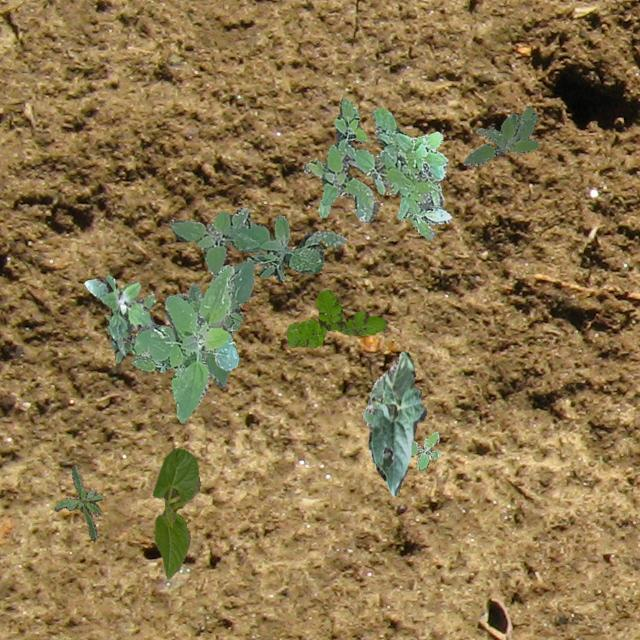crop: (360, 350, 426, 494), (152, 446, 200, 578)
weed: (168, 207, 346, 386), (302, 98, 451, 238), (128, 264, 238, 422), (130, 284, 242, 372), (82, 274, 154, 362), (286, 288, 386, 346), (462, 106, 538, 164), (54, 464, 102, 540), (410, 430, 440, 470)
